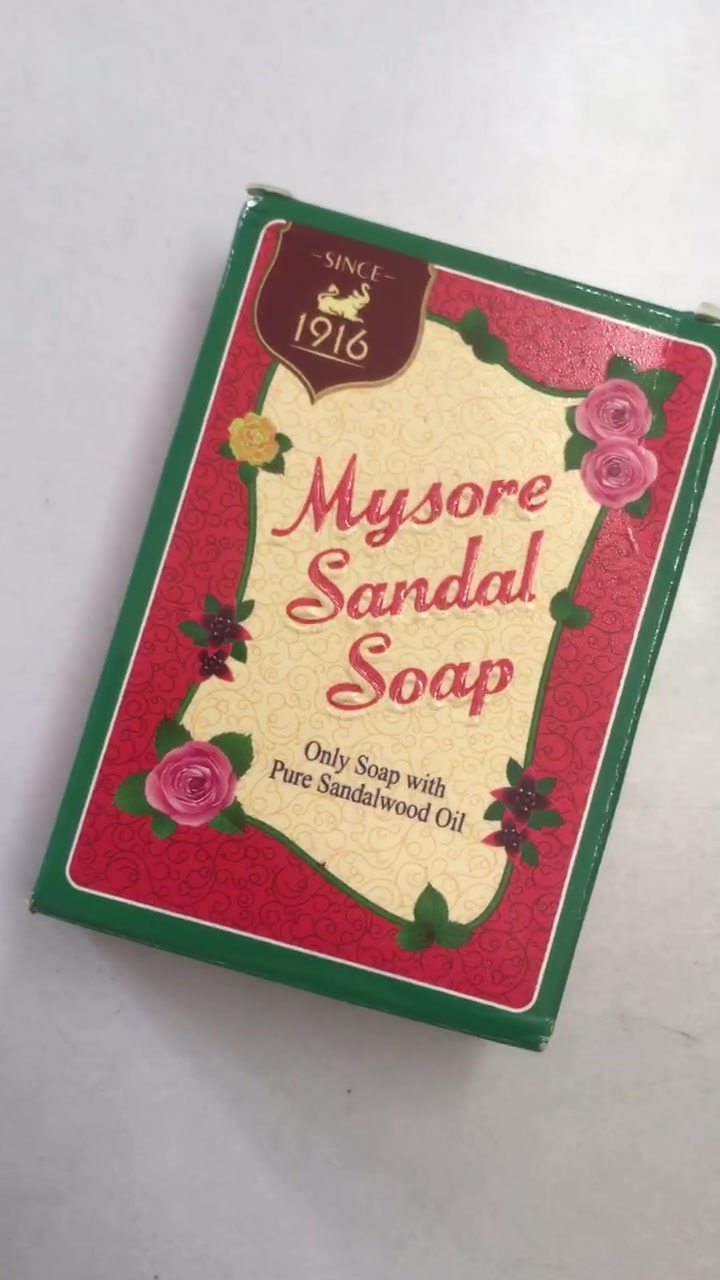mysore sandal soap: (33, 180, 720, 1057)
